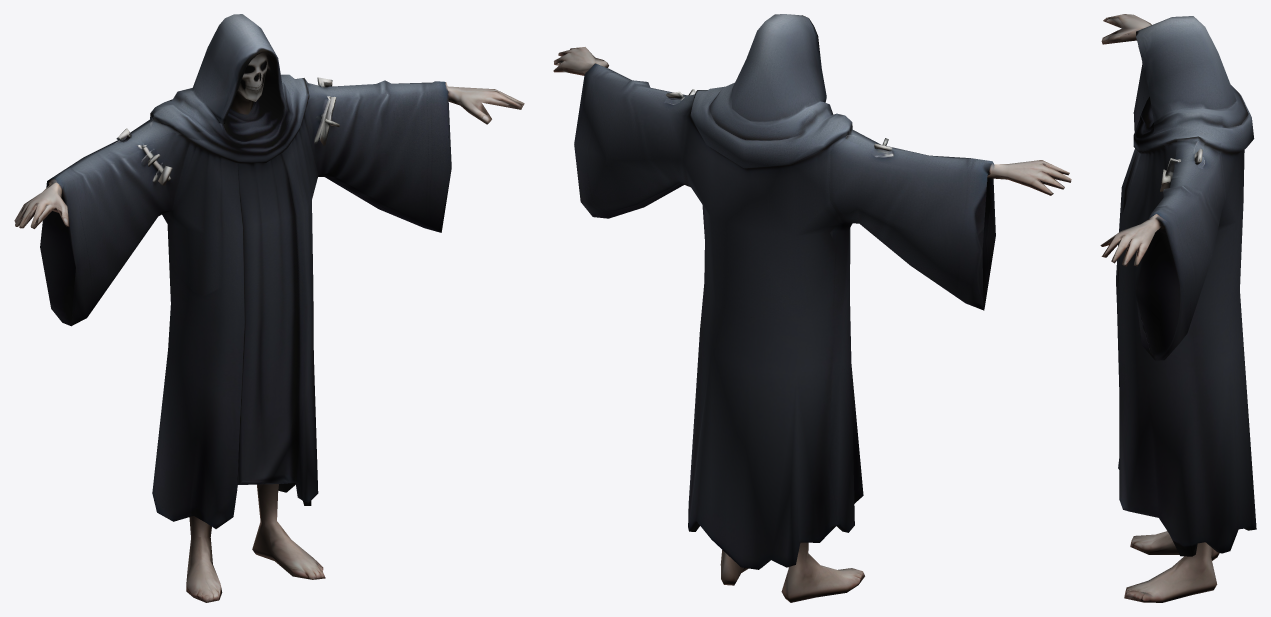
Rendered from grim.glb.
3 views of the same model, side by side, from view 1: azimuth 30°, elevation 25°; view 2: azimuth 150°, elevation 25°; view 3: azimuth 270°, elevation 25° (orthographic). The views are drawn at different scales.
Parts seen in each view (by area): view 1: tripo_node_e1cfc5e8; view 2: tripo_node_e1cfc5e8; view 3: tripo_node_e1cfc5e8.
Part boxes in pixels (x1,y1,x2,y2): tripo_node_e1cfc5e8: (14, 14, 524, 602); tripo_node_e1cfc5e8: (553, 14, 1071, 602); tripo_node_e1cfc5e8: (1100, 14, 1256, 602).
Size of the model in its own units: 1.77 by 1.86 by 0.4771.
1 material, 1 textured.
